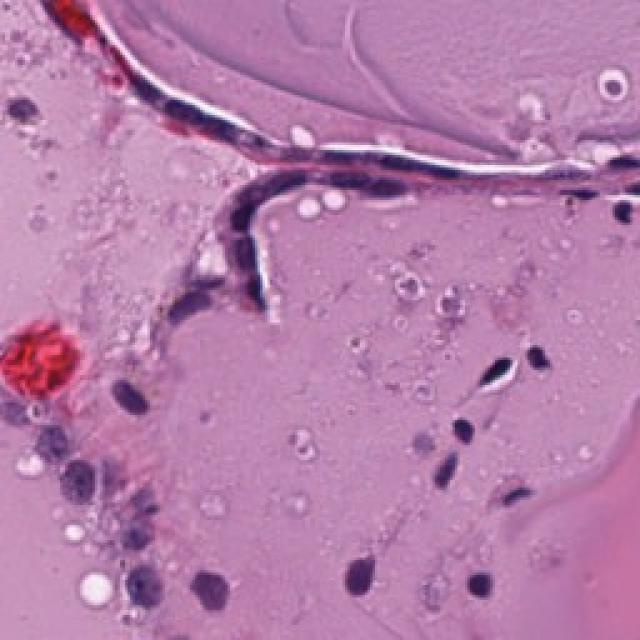normal: (114, 547, 183, 624), (147, 76, 216, 152), (252, 145, 314, 224), (307, 143, 372, 212), (201, 185, 272, 246), (48, 441, 105, 509), (20, 411, 73, 476), (206, 232, 268, 284)
